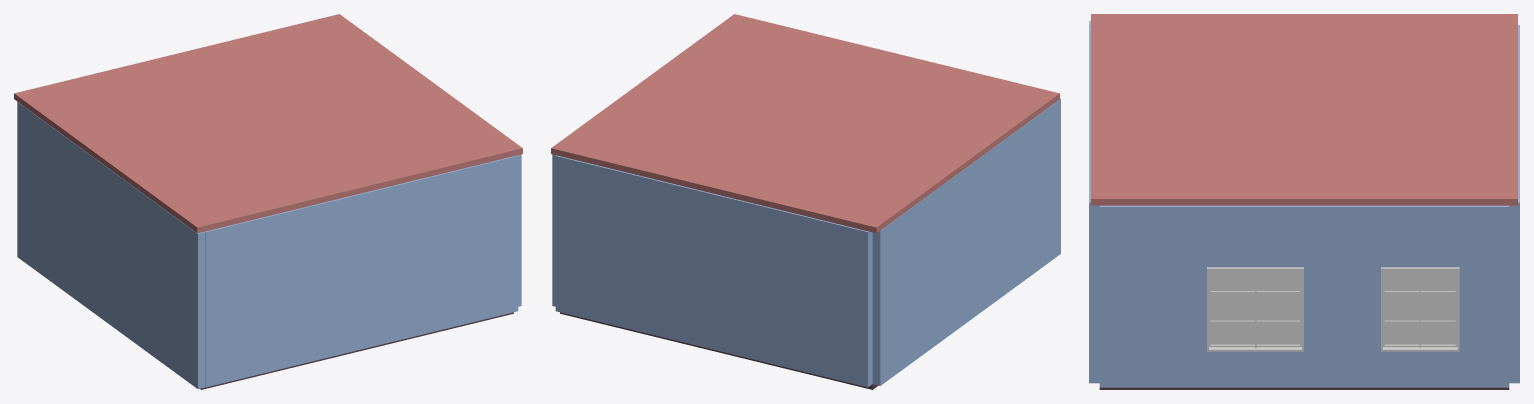
Rendered from Pixel_Game_Jam.fbx.
The picture shows the model from 3 angles, left to right: view 1: azimuth 30°, elevation 25°; view 2: azimuth 150°, elevation 25°; view 3: azimuth 270°, elevation 25°; orthographic projection. The views are drawn at different scales.
Visible parts, largest first — view 1: ceiling, wall02.001, wall02.002, floor, wall01; view 2: ceiling, wall02, wall02.002, floor, wall01; view 3: ceiling, wall01, window_emmisive, window_frame, wall02, wall02.001, floor.
Part boxes in pixels (x1,y1,x2,y2): ceiling: [14, 14, 522, 233]; wall02.001: [205, 155, 518, 387]; wall02.002: [17, 102, 205, 388]; floor: [200, 312, 513, 389]; wall01: [518, 154, 521, 306]; ceiling: [551, 14, 1059, 233]; wall02: [555, 155, 872, 387]; wall02.002: [872, 98, 1060, 385]; floor: [560, 312, 877, 389]; wall01: [552, 154, 555, 306]; ceiling: [1091, 14, 1517, 205]; wall01: [1099, 205, 1509, 387]; window_emmisive: [1210, 270, 1455, 344]; window_frame: [1207, 267, 1459, 351]; wall02: [1509, 25, 1519, 383]; wall02.001: [1089, 25, 1099, 383]; floor: [1099, 387, 1509, 389].
Size of the model in its own units: 890 by 430 by 865.
